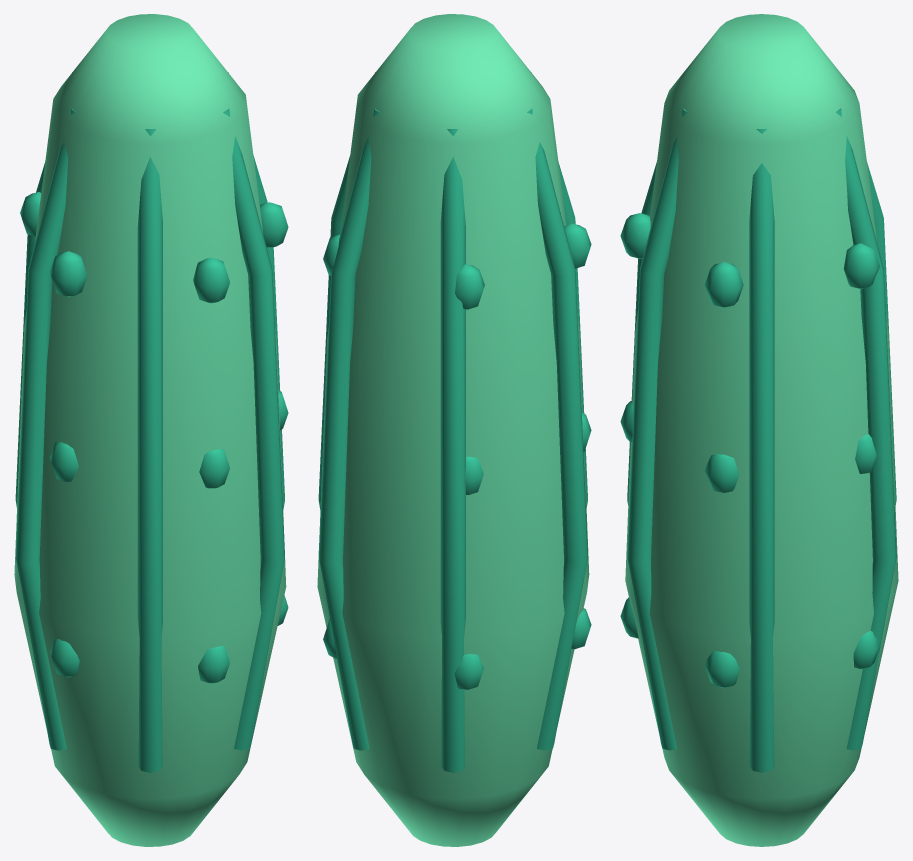
Rendered from cucumber.glb.
3 renders of one model, left to right at view 1: azimuth 30°, elevation 25°; view 2: azimuth 150°, elevation 25°; view 3: azimuth 270°, elevation 25°, orthographic.
Visible parts, largest first — view 1: cucumber; view 2: cucumber; view 3: cucumber.
Part boxes in pixels (x1=…): cucumber: x1=14, y1=14, x2=288, y2=846; cucumber: x1=317, y1=14, x2=591, y2=846; cucumber: x1=620, y1=14, x2=898, y2=846.
Size of the model in its own units: 0.351 by 1 by 0.3167.
1 material, 1 textured.
